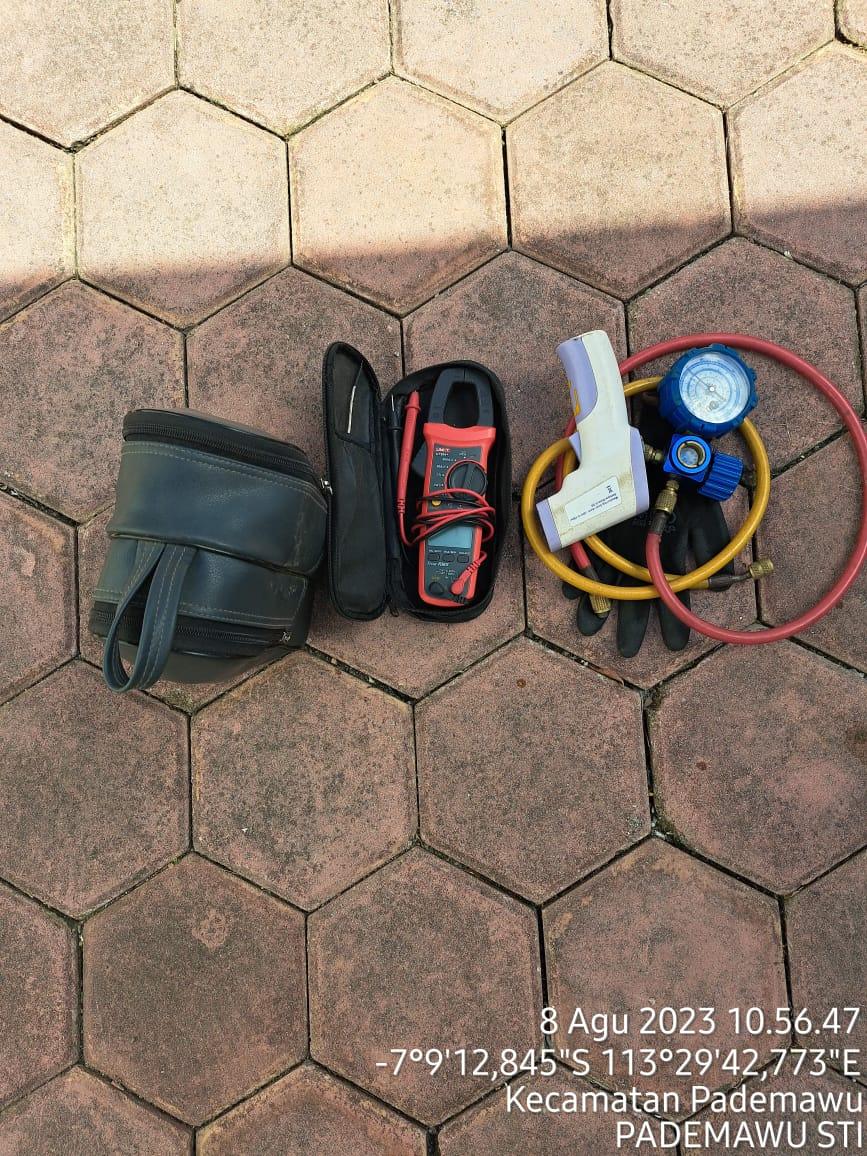TANG_AMPERE: (411, 364, 492, 615)
